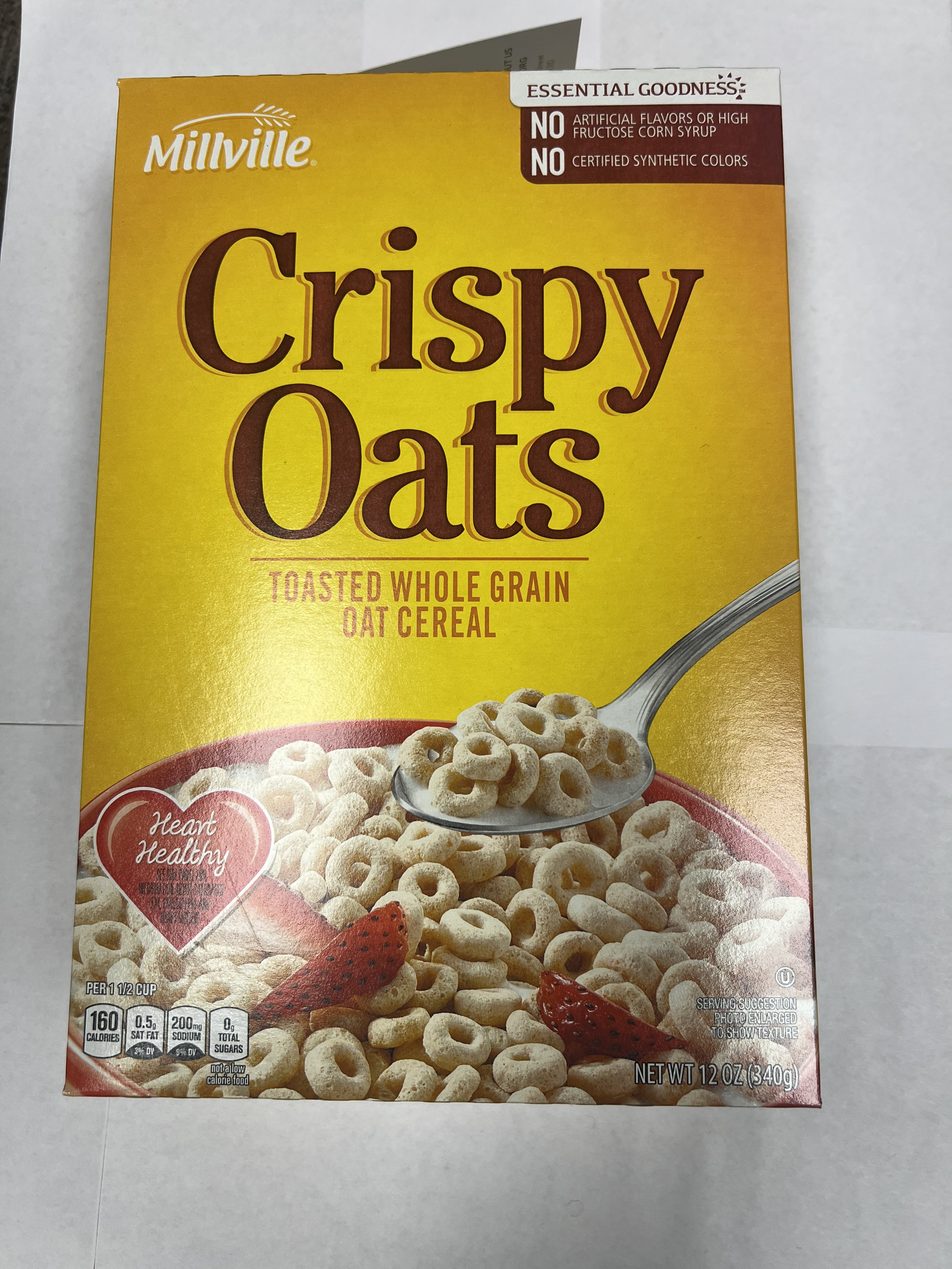packaged: (56, 68, 828, 1115)
